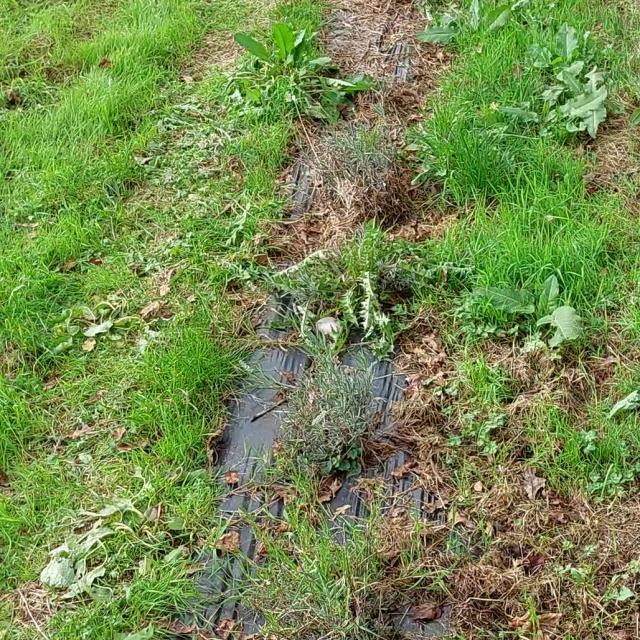organic waste: (206, 23, 371, 138), (36, 496, 195, 614), (513, 29, 636, 150), (478, 279, 622, 356), (66, 281, 162, 363), (418, 2, 518, 64), (512, 27, 603, 86)
